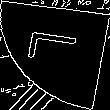L_E: (23, 35, 87, 75)
